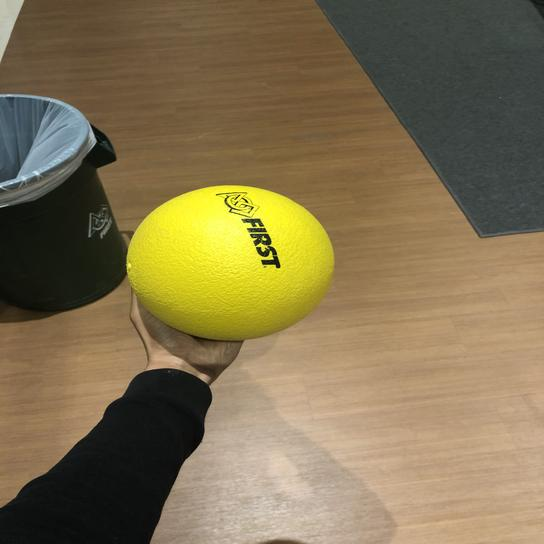ball: (122, 181, 343, 346)
